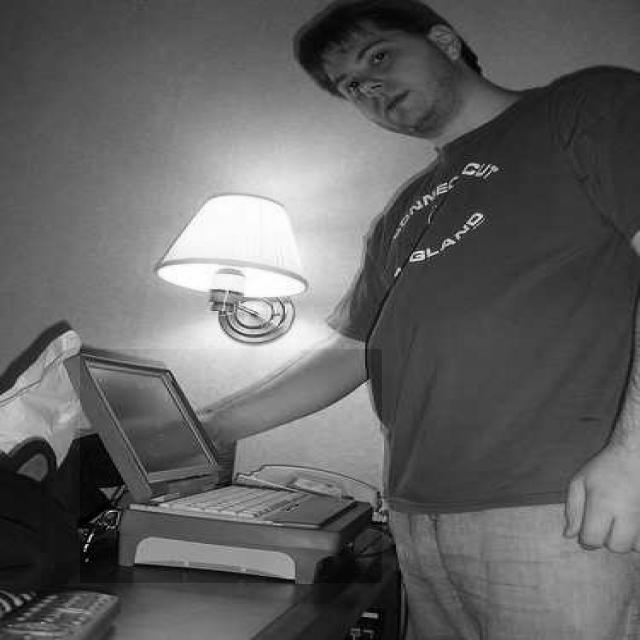-keyboard-: (80, 349, 382, 583)
